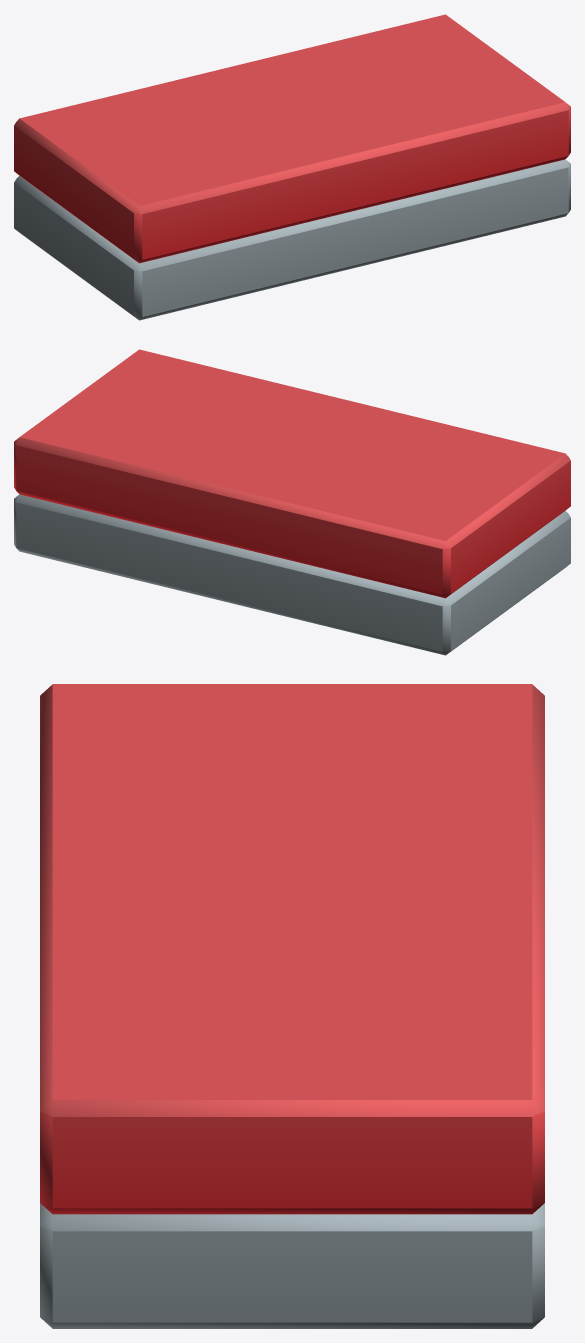
Rendered from platform_4x2x1_red.glb.
3 views of the same model, one above another, from view 1: azimuth 30°, elevation 25°; view 2: azimuth 150°, elevation 25°; view 3: azimuth 270°, elevation 25° (orthographic). The views are drawn at different scales.
Visible parts, largest first — view 1: platform_4x2x1_red; view 2: platform_4x2x1_red; view 3: platform_4x2x1_red.
Boxes of the visible parts, x1,y1,x2,y2 form: platform_4x2x1_red: [14, 14, 570, 320]; platform_4x2x1_red: [14, 349, 570, 655]; platform_4x2x1_red: [40, 684, 544, 1328].
Size of the model in its own units: 4 by 1 by 2.
Materials: 1 (1 with a texture image).
